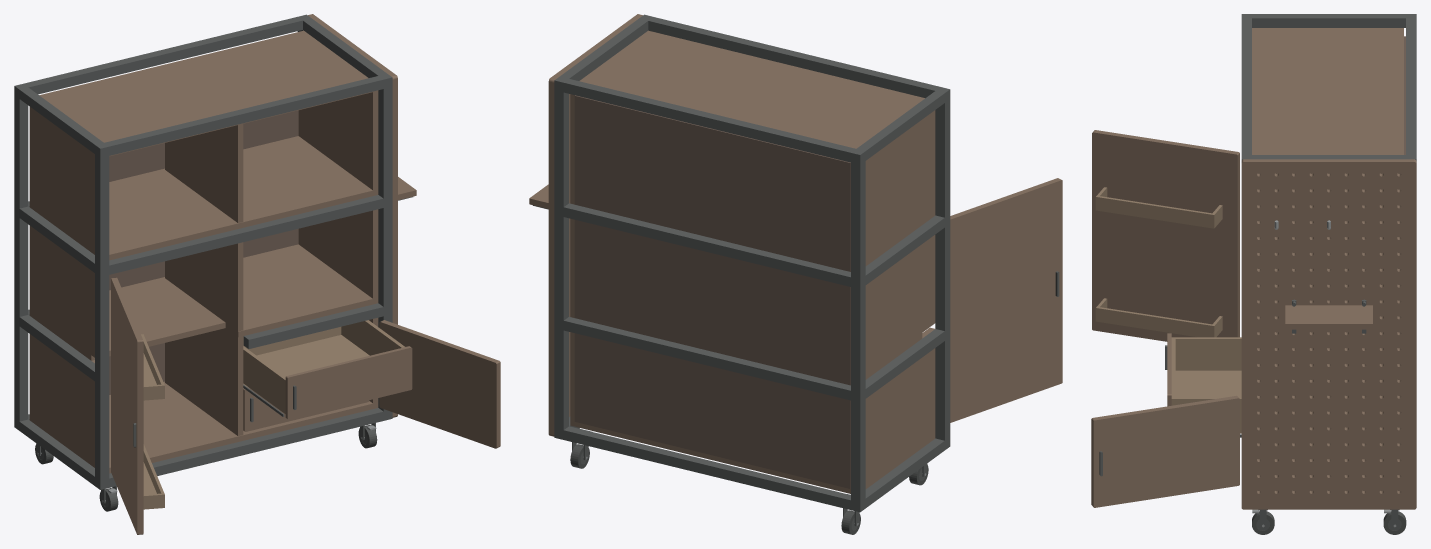
The model's file is inside-open.glb.
The picture shows the model from 3 angles, left to right: view 1: azimuth 30°, elevation 25°; view 2: azimuth 150°, elevation 25°; view 3: azimuth 270°, elevation 25°; orthographic projection. The views are drawn at different scales.
Visible parts, largest first — view 1: shelf-3, shelf-2, shelf-1, right-low-door, left-tall-door, side-left-2, shelf-0, partition-0, drawer-1-face, side-left-1, side-left-0, side-right-2 (+23 smaller); view 2: back-panel, left-tall-door, shelf-3, side-left-2, side-left-1, side-left-0, profile-post-0-470, profile-post-0-0, profile-post-952-470, profile-cross-3-470, profile-cross-0-470, profile-cross-2-470 (+9 smaller); view 3: pegboard-full-right, left-tall-door, shelf-3, right-low-door, drawer-1-left, accessory-shelf, profile-depth-3-0, drawer-1-bottom, left-door-tray-0-lip, left-door-tray-1-lip, profile-cross-3-0, profile-cross-3-470 (+3 smaller).
Part boxes in pixels (left/top/right/bottom): shelf-3: left=39, top=30, right=378, bottom=156; shelf-2: left=29, top=136, right=378, bottom=260; shelf-1: left=29, top=244, right=378, bottom=360; right-low-door: left=379, top=320, right=500, bottom=448; left-tall-door: left=111, top=277, right=143, bottom=534; side-left-2: left=29, top=107, right=94, bottom=249; shelf-0: left=29, top=381, right=378, bottom=473; partition-0: left=165, top=328, right=243, bottom=435; drawer-1-face: left=285, top=346, right=412, bottom=419; side-left-1: left=29, top=226, right=94, bottom=357; side-left-0: left=29, top=334, right=94, bottom=462; side-right-2: left=298, top=91, right=378, bottom=190; back-panel: left=574, top=95, right=850, bottom=488; left-tall-door: left=950, top=178, right=1062, bottom=422; shelf-3: left=579, top=30, right=924, bottom=148; side-left-2: left=865, top=110, right=935, bottom=260; side-left-1: left=865, top=235, right=935, bottom=373; side-left-0: left=865, top=327, right=935, bottom=483; profile-post-0-470: left=851, top=149, right=865, bottom=512; profile-post-0-0: left=935, top=87, right=950, bottom=449; profile-post-952-470: left=554, top=76, right=568, bottom=439; profile-cross-3-470: left=563, top=79, right=855, bottom=162; profile-cross-0-470: left=563, top=426, right=850, bottom=509; profile-cross-2-470: left=563, top=203, right=850, bottom=286; pegboard-full-right: left=1241, top=159, right=1416, bottom=509; left-tall-door: left=1092, top=130, right=1239, bottom=341; shelf-3: left=1252, top=28, right=1403, bottom=154; right-low-door: left=1091, top=395, right=1239, bottom=507; drawer-1-left: left=1171, top=337, right=1241, bottom=370; accessory-shelf: left=1285, top=305, right=1372, bottom=329; profile-depth-3-0: left=1252, top=14, right=1405, bottom=27; drawer-1-bottom: left=1175, top=370, right=1241, bottom=433; left-door-tray-0-lip: left=1095, top=306, right=1215, bottom=336; left-door-tray-1-lip: left=1095, top=195, right=1215, bottom=225; profile-cross-3-0: left=1241, top=18, right=1251, bottom=154; profile-cross-3-470: left=1406, top=18, right=1416, bottom=154.
Bounding box in the file's own units: 1.25 × 1.2 × 0.9289.
